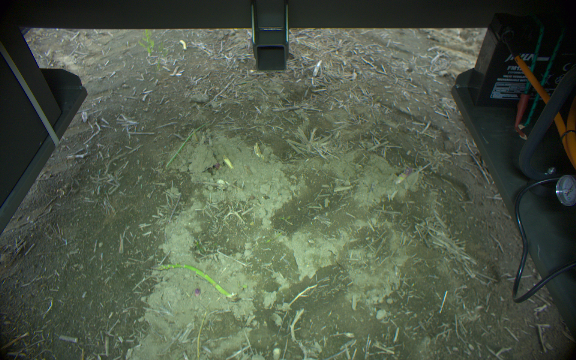aspa: (156, 262, 238, 300)
